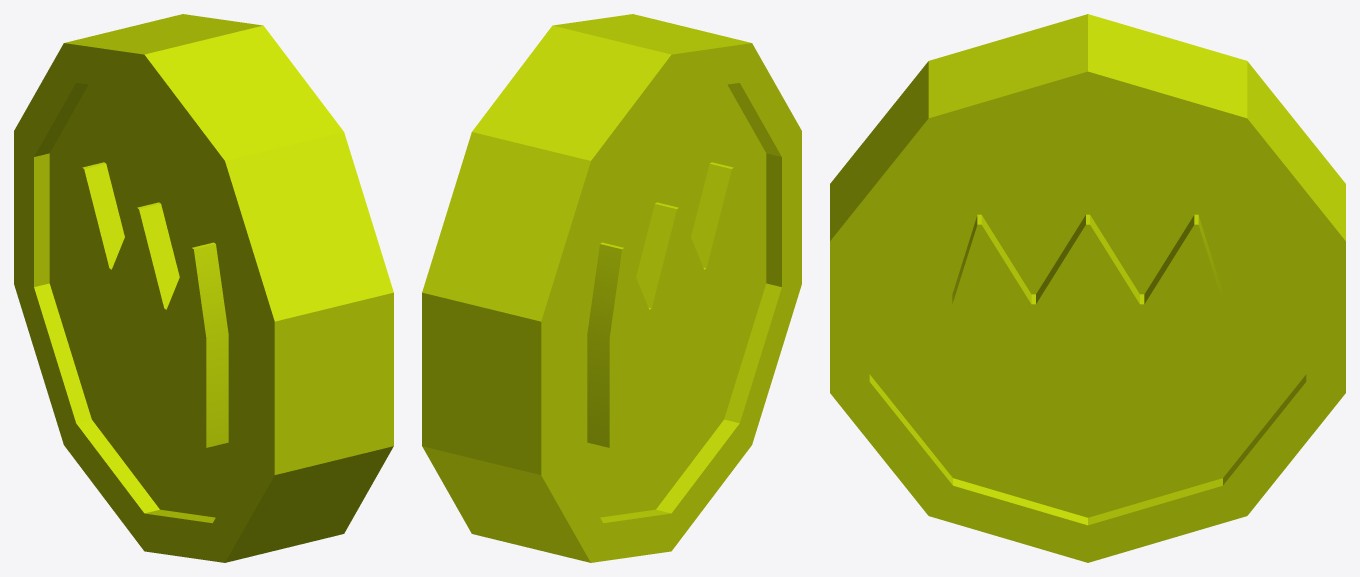
Rendered from Moneda.fbx.
The picture shows the model from 3 angles, left to right: view 1: azimuth 30°, elevation 25°; view 2: azimuth 150°, elevation 25°; view 3: azimuth 270°, elevation 25°; orthographic projection.
Visible parts, largest first — view 1: pCube2; view 2: pCube2; view 3: pCube2.
Part boxes in pixels (box(x1,y1,x2,y2)): pCube2: box(14, 14, 393, 562); pCube2: box(422, 14, 801, 562); pCube2: box(830, 14, 1345, 562).
Size of the model in its own units: 20.14 by 73.13 by 69.55.
